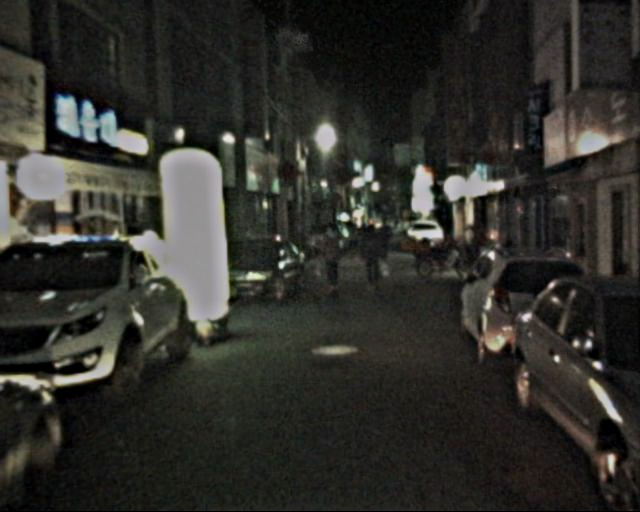person: (316, 225, 345, 296), (357, 224, 386, 294)
